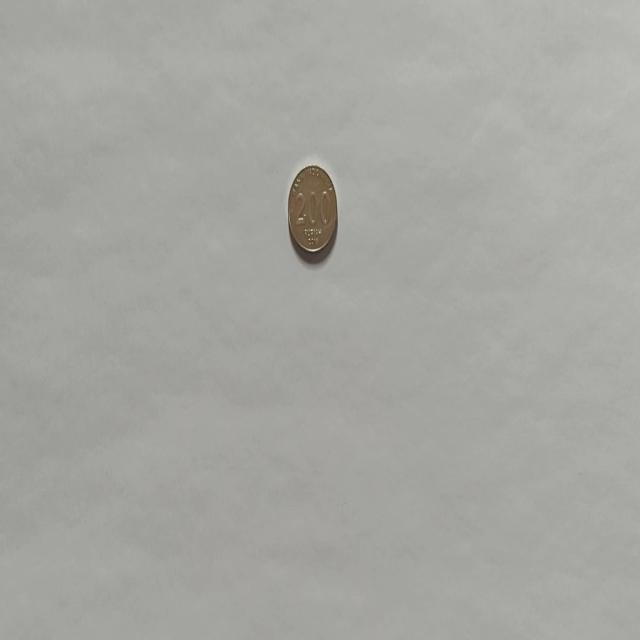dua ratus rupiah: (286, 162, 338, 255)
